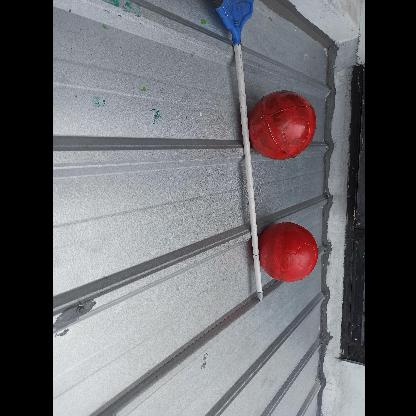red_ball: (248, 91, 316, 159), (257, 223, 317, 283)
